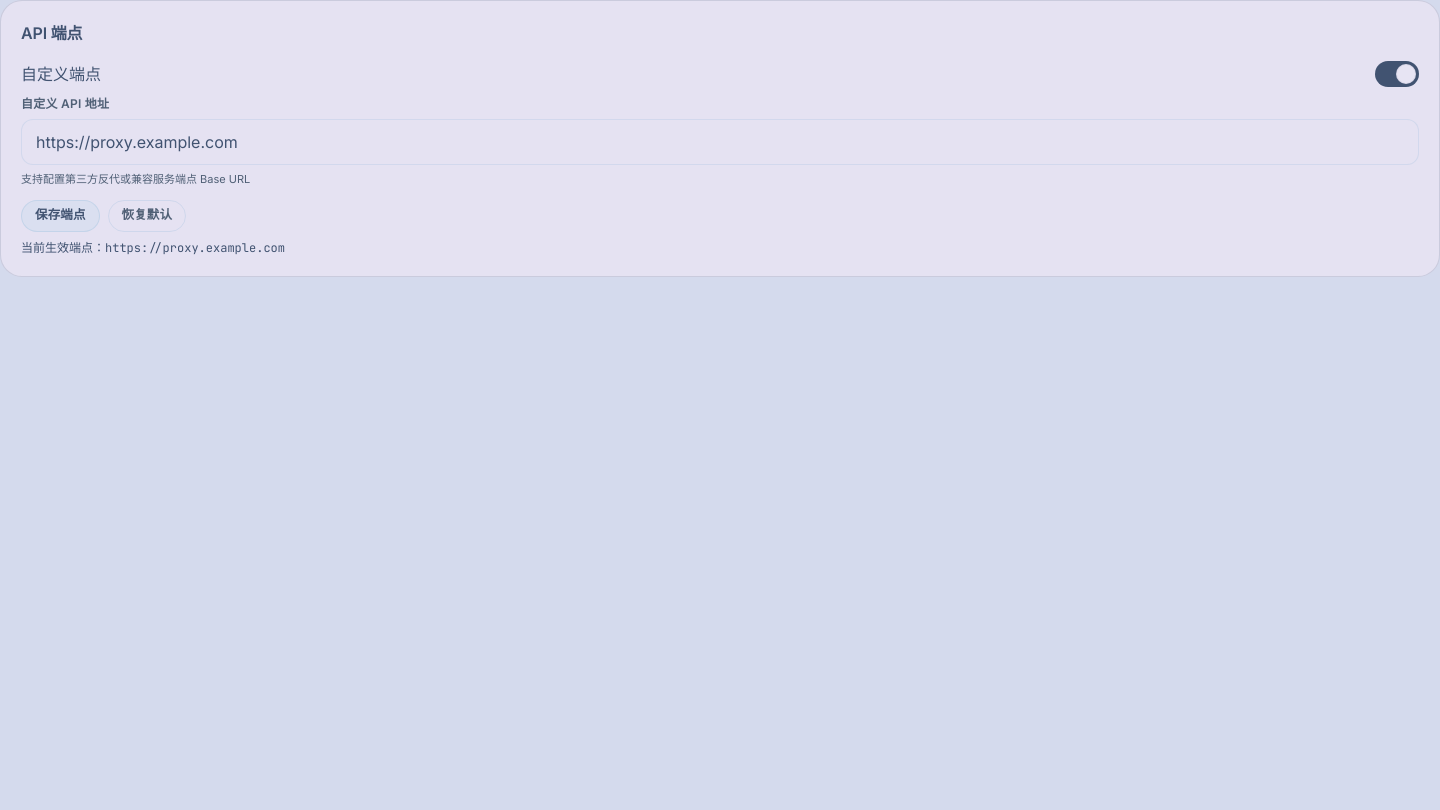
Scenario: ApiEndpointSettings › 点击恢复默认后，重置为官方默认端点并关闭开关
The width and height of the screenshot is (1440, 810).
Expected: the switch named "自定义端点" is checked, 1375,61 -> 1419,87
Step 1. Click the button "恢复默认" → (147, 216), box 108,200 -> 186,232
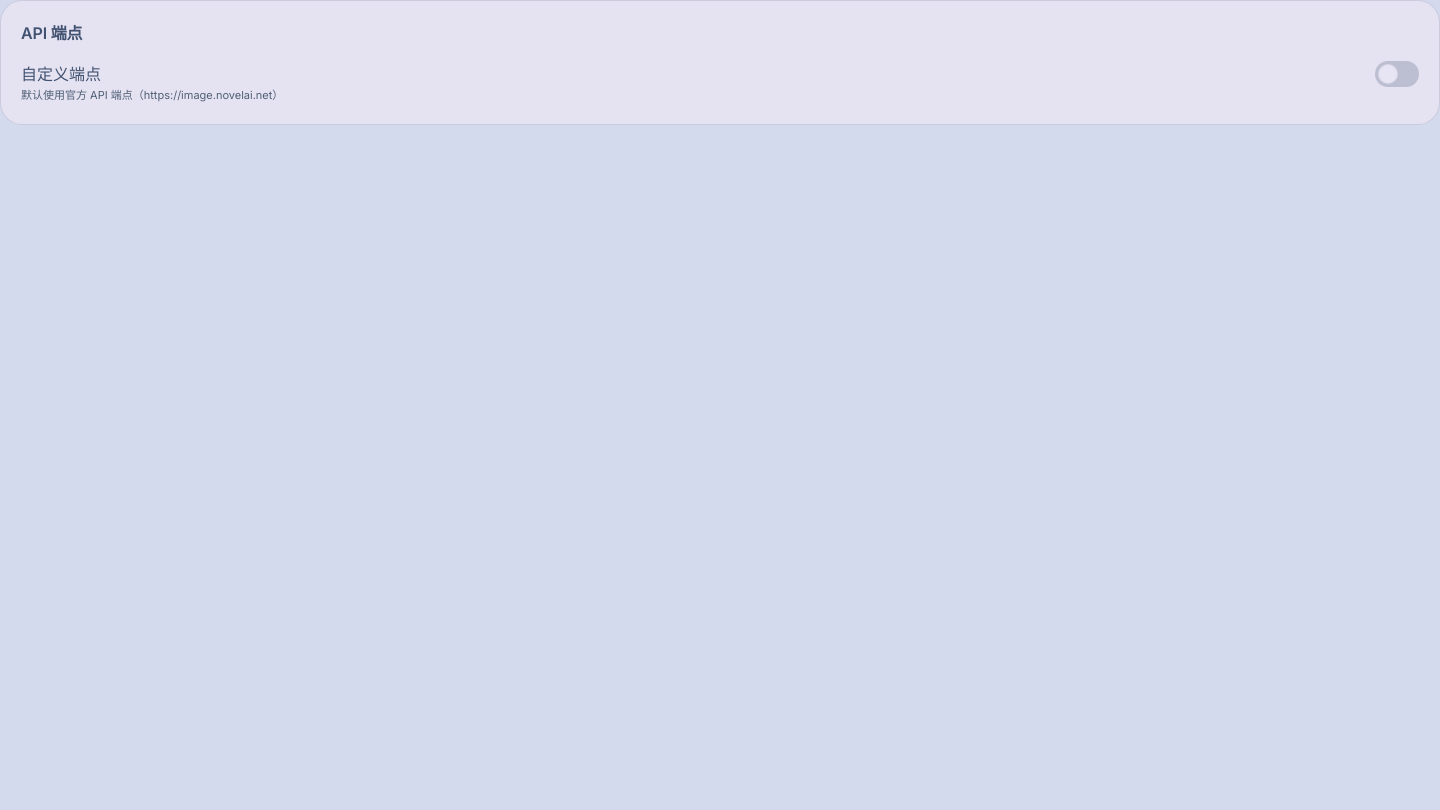
Expected: the switch named "自定义端点" is not checked, 1375,61 -> 1419,87
Expected: the text "默认使用官方 API 端点（https://image.novelai.net）" is shown, 21,88 -> 283,102
